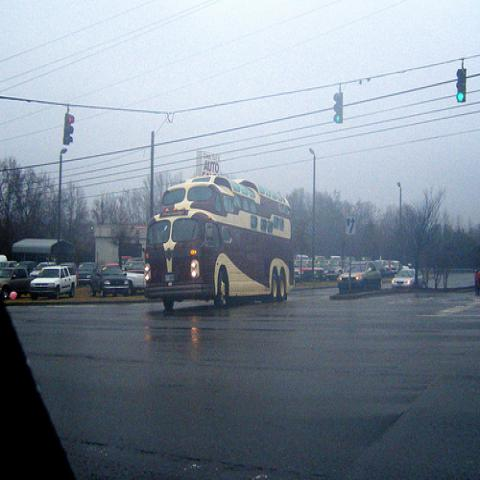bus: (147, 178, 297, 301)
car: (338, 259, 384, 293), (0, 266, 31, 300), (388, 264, 428, 288), (124, 269, 145, 297), (78, 262, 96, 286), (32, 260, 56, 278), (474, 264, 479, 296)
truck: (31, 266, 78, 302), (90, 265, 130, 297), (0, 268, 35, 298)
